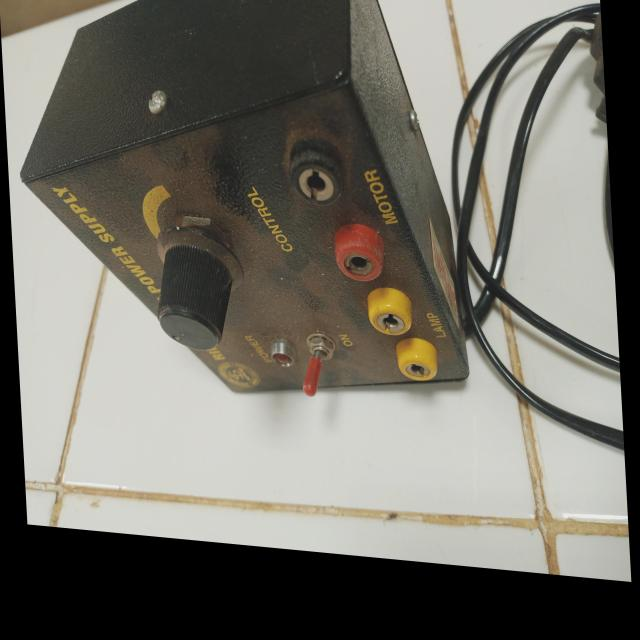Ripple Tank Power Supply: (0, 0, 481, 430)
